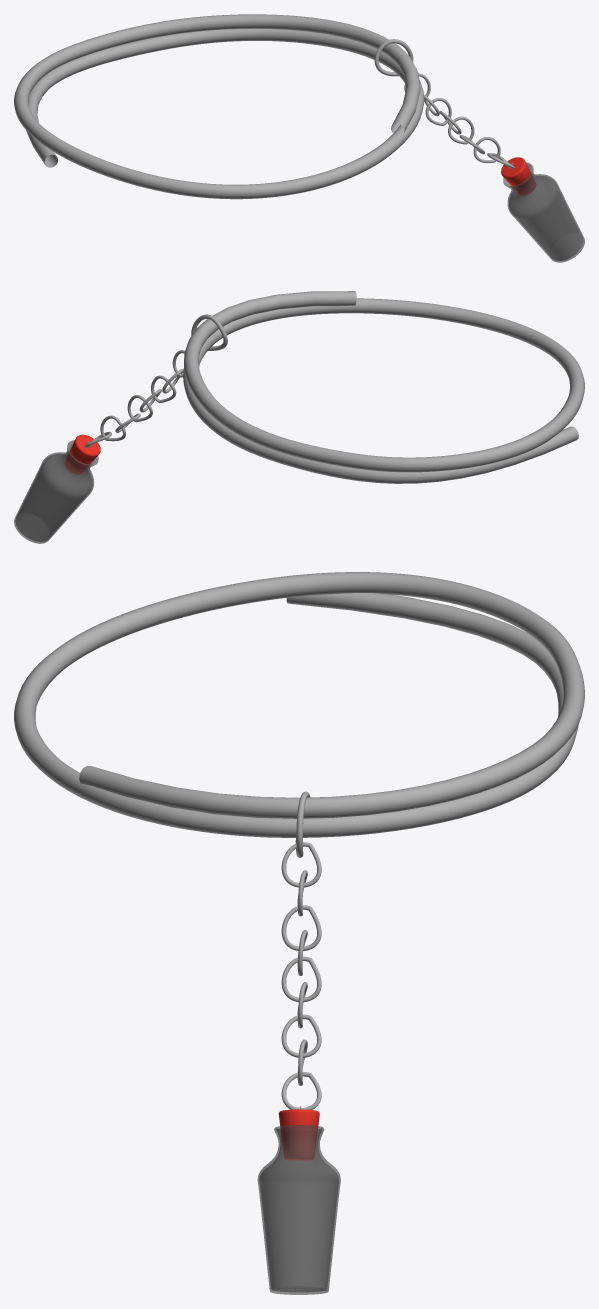
The model's file is Tag01.fbx.
3 views of the same model, one above another, from view 1: azimuth 30°, elevation 25°; view 2: azimuth 150°, elevation 25°; view 3: azimuth 270°, elevation 25° (orthographic). The views are drawn at different scales.
Visible parts, largest first — view 1: NurbsPath.001, Cylinder.007, Cylinder.008, Chain; view 2: NurbsPath.001, Cylinder.007, Cylinder.008, Chain; view 3: NurbsPath.001, Cylinder.007, Cylinder.008.
Part boxes in pixels (x1,y1,x2,y2): NurbsPath.001: (14,14,424,199); Cylinder.007: (503,162,584,262); Cylinder.008: (501,157,535,195); Chain: (374,39,413,76); NurbsPath.001: (183,291,584,483); Cylinder.007: (14,440,98,543); Cylinder.008: (64,434,100,474); Chain: (191,314,227,350); NurbsPath.001: (14,572,584,837); Cylinder.007: (257,1125,340,1294); Cylinder.008: (278,1109,319,1160).
Size of the model in its own units: 315 by 144 by 194.
